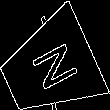N_SW: (20, 39, 78, 97)
